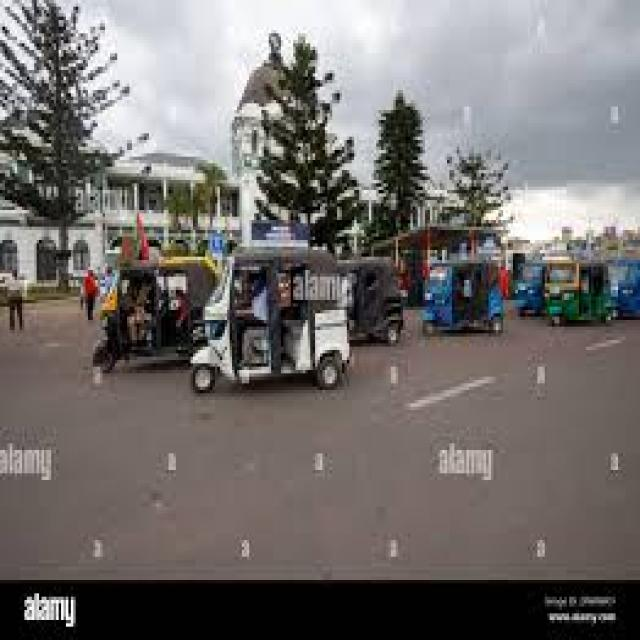bus: (318, 205, 465, 542)
person: (12, 408, 71, 640)
